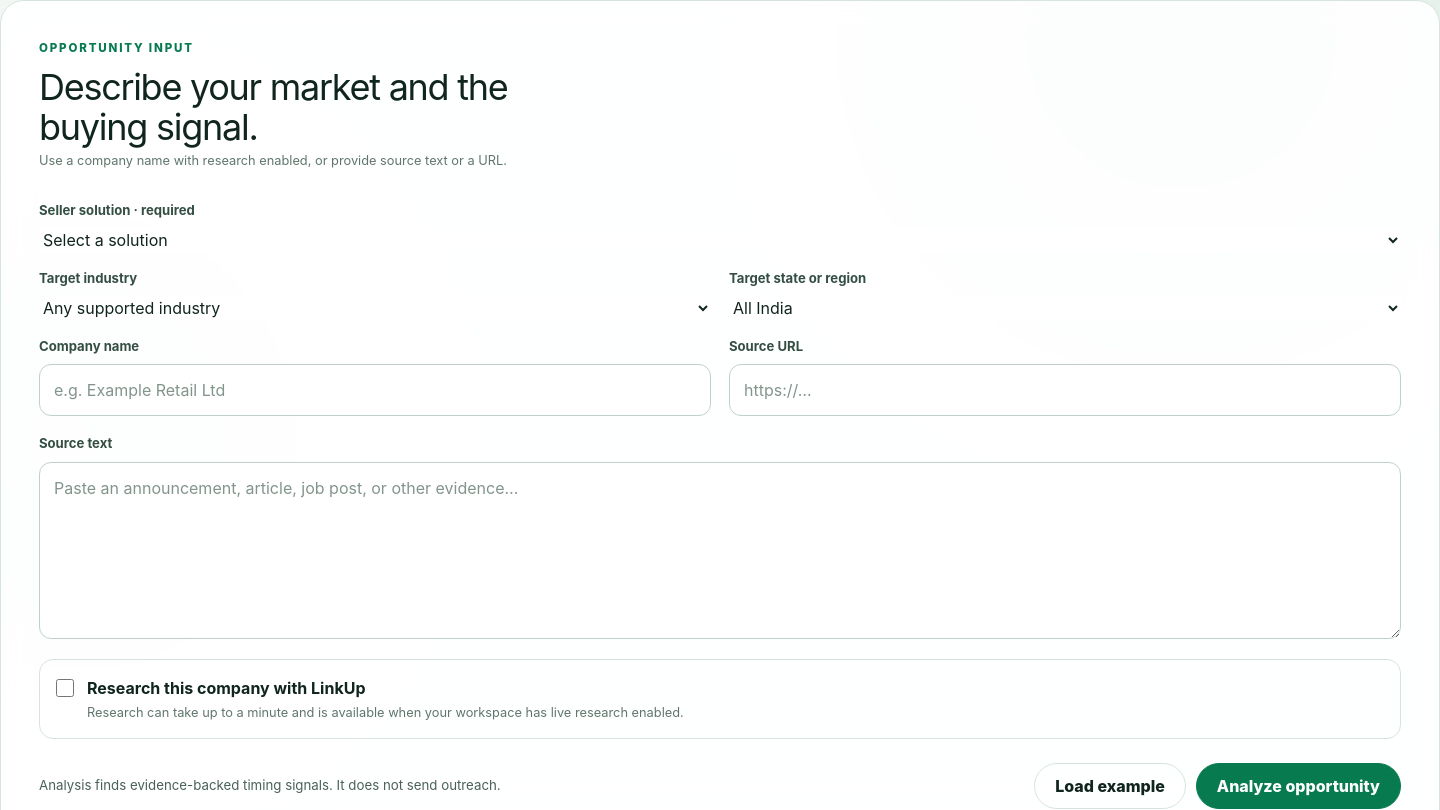
Test case: AnalysisForm › preserves the form and explains valid source requirements
Step 1. Select "Warehouse Automation" in the dropdown labelled "Seller solution" → x=720, y=240, box [39,229,1401,251]
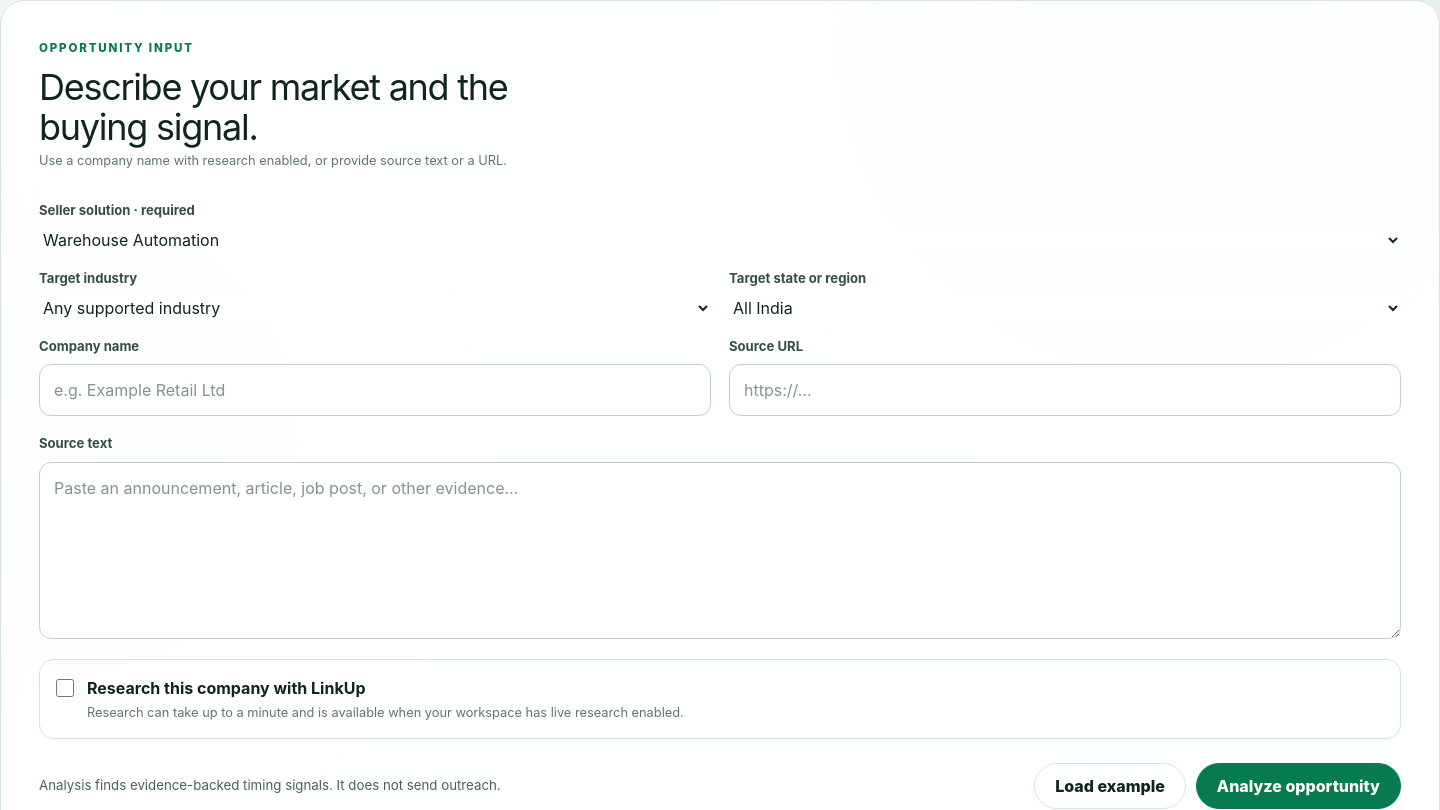
Step 2. Click the button "Analyze opportunity" → x=1298, y=786, box [1196,763,1401,809]
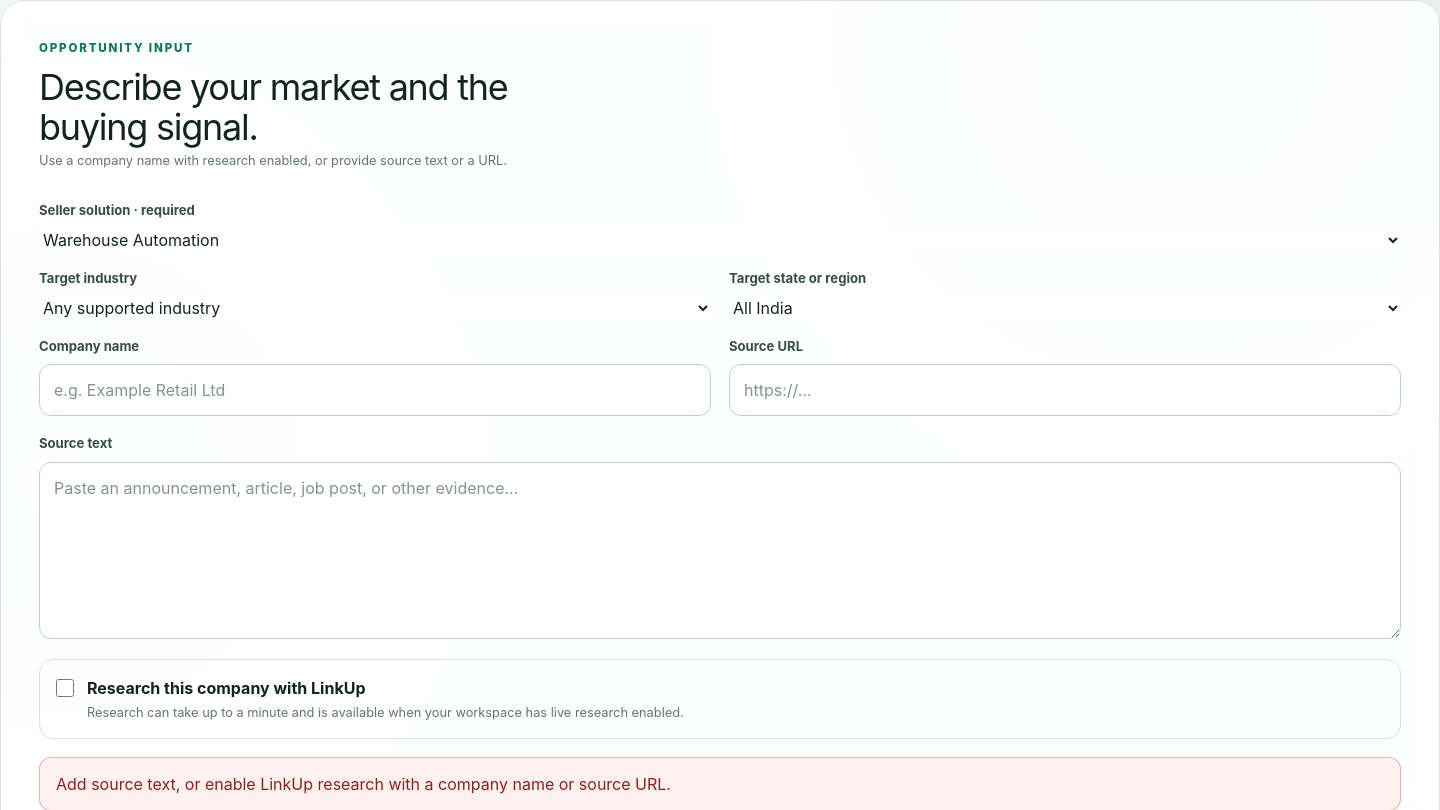
expect the message shows "Add source text, or enable LinkUp research": met, box [56,774,671,794]
